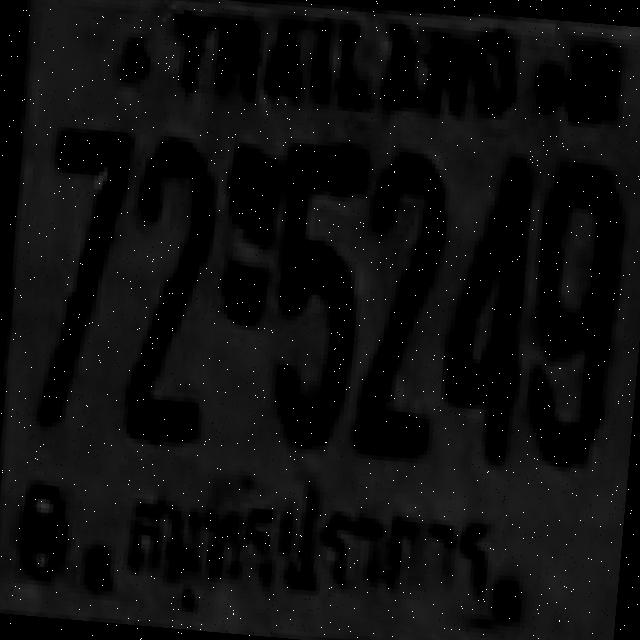0: (264, 239, 360, 445), (530, 158, 624, 350)
4: (441, 150, 531, 387)
7: (40, 121, 132, 291)
9: (519, 239, 617, 467)
SamutPrakan: (96, 468, 496, 624)
